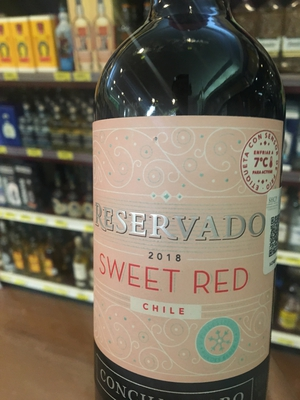reservado sweet red: (87, 10, 288, 400)
